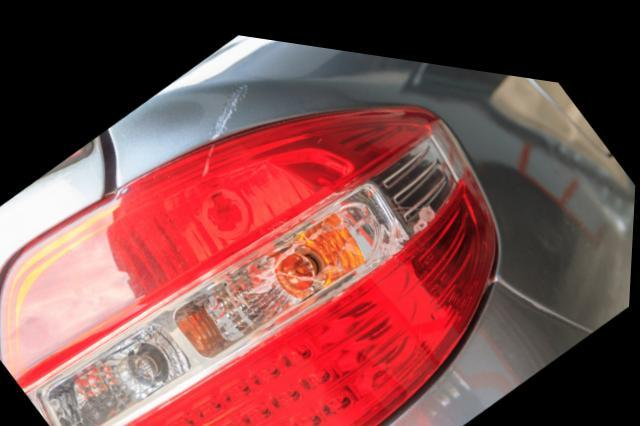lamp broken: (0, 91, 502, 426)
scratch: (207, 69, 249, 134)
